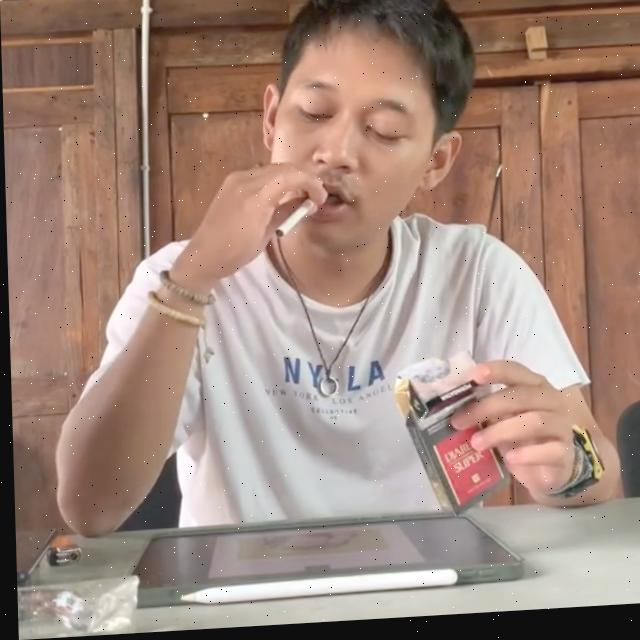cigarette: (272, 202, 313, 241)
